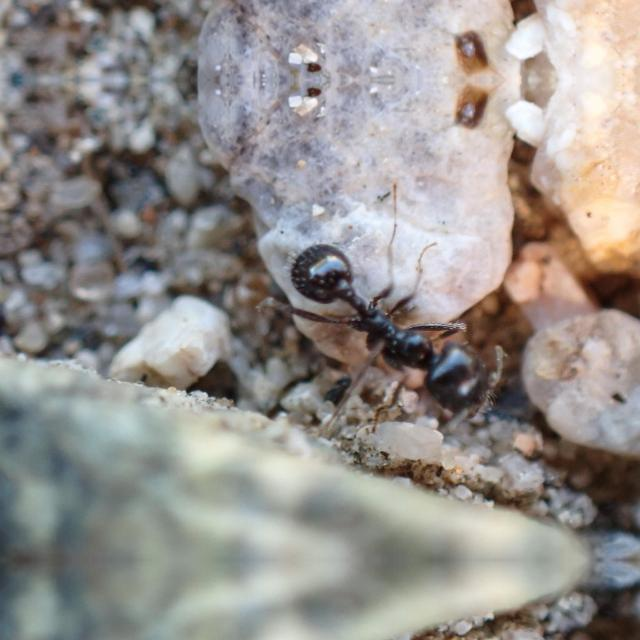Messor: (288, 232, 502, 423)
